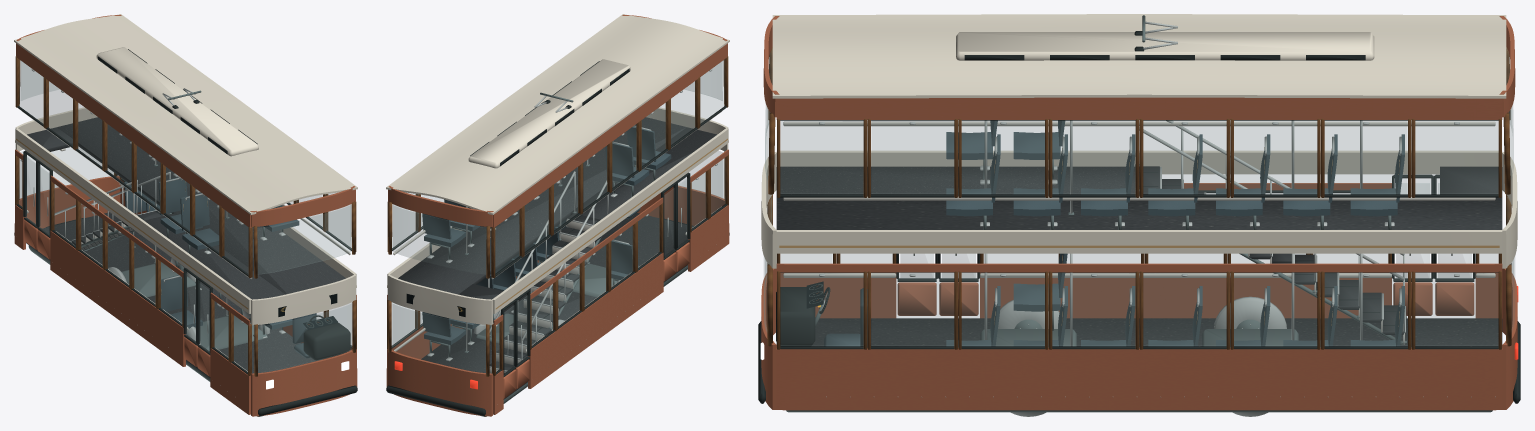
File: vesper-t9-lod0.glb
3 views of the same model, side by side, from view 1: azimuth 30°, elevation 25°; view 2: azimuth 150°, elevation 25°; view 3: azimuth 270°, elevation 25° (orthographic). The views are drawn at different scales.
Visible parts, largest first — view 1: LOD0-tram-detail-0-pearl-batch, LOD0-tram-detail-0-glass-batch, LOD0-tram-detail-0-paint-batch, LOD0-tram-detail-0-floor-batch, LOD0-tram-detail-0-wood-batch, LOD0-tram-detail-0-cloth-batch, LOD0-tram-detail-0-dark-batch, LOD0-tram-detail-0-steel-batch, LOD0-tram-detail-0-metal-batch, LOD0-tram-detail-0-interior-batch, LOD0-tram-door-0-port-leaf-1-glass-batch, LOD0-tram-door-1-port-leaf-1-glass-batch (+8 smaller); view 2: LOD0-tram-detail-0-pearl-batch, LOD0-tram-detail-0-glass-batch, LOD0-tram-detail-0-paint-batch, LOD0-tram-detail-0-floor-batch, LOD0-tram-detail-0-cloth-batch, LOD0-tram-detail-0-wood-batch, LOD0-tram-detail-0-dark-batch, LOD0-tram-detail-0-metal-batch, LOD0-tram-detail-0-steel-batch, LOD0-tram-detail-0-interior-batch, LOD0-tram-door-1-port-leaf--1-glass-batch, LOD0-tram-door-0-port-leaf--1-glass-batch (+7 smaller); view 3: LOD0-tram-detail-0-glass-batch, LOD0-tram-detail-0-pearl-batch, LOD0-tram-detail-0-paint-batch, LOD0-tram-detail-0-floor-batch, LOD0-tram-detail-0-cloth-batch, LOD0-tram-detail-0-wood-batch, LOD0-tram-detail-0-dark-batch, LOD0-tram-detail-0-interior-batch, LOD0-tram-detail-0-metal-batch, LOD0-tram-detail-0-steel-batch, LOD0-tram-detail-0-livery-batch, LOD0-tram-door-0-port-leaf--1-paint-batch (+5 smaller).
Boxes of the visible parts, x1,y1,x2,y2 form: LOD0-tram-detail-0-pearl-batch: (14, 14, 357, 325); LOD0-tram-detail-0-glass-batch: (18, 60, 351, 372); LOD0-tram-detail-0-paint-batch: (14, 14, 357, 416); LOD0-tram-detail-0-floor-batch: (26, 117, 345, 377); LOD0-tram-detail-0-wood-batch: (15, 56, 356, 376); LOD0-tram-detail-0-cloth-batch: (124, 177, 316, 358); LOD0-tram-detail-0-dark-batch: (14, 49, 357, 415); LOD0-tram-detail-0-steel-batch: (28, 90, 283, 416); LOD0-tram-detail-0-metal-batch: (20, 69, 316, 391); LOD0-tram-detail-0-interior-batch: (22, 111, 350, 371); LOD0-tram-door-0-port-leaf-1-glass-batch: (39, 167, 49, 234); LOD0-tram-door-1-port-leaf-1-glass-batch: (199, 284, 209, 351); LOD0-tram-detail-0-pearl-batch: (386, 14, 729, 325); LOD0-tram-detail-0-glass-batch: (392, 60, 725, 372); LOD0-tram-detail-0-paint-batch: (386, 14, 729, 416); LOD0-tram-detail-0-floor-batch: (398, 117, 716, 399); LOD0-tram-detail-0-cloth-batch: (422, 126, 671, 344); LOD0-tram-detail-0-wood-batch: (387, 56, 728, 376); LOD0-tram-detail-0-dark-batch: (386, 61, 729, 415); LOD0-tram-detail-0-metal-batch: (427, 69, 717, 371); LOD0-tram-detail-0-steel-batch: (429, 92, 687, 416); LOD0-tram-detail-0-interior-batch: (393, 111, 721, 373); LOD0-tram-door-1-port-leaf--1-glass-batch: (664, 189, 674, 256); LOD0-tram-door-0-port-leaf--1-glass-batch: (504, 306, 514, 373); LOD0-tram-detail-0-glass-batch: (763, 48, 1514, 345); LOD0-tram-detail-0-pearl-batch: (761, 14, 1517, 268); LOD0-tram-detail-0-paint-batch: (761, 16, 1517, 410); LOD0-tram-detail-0-floor-batch: (776, 166, 1502, 347); LOD0-tram-detail-0-cloth-batch: (824, 120, 1404, 347); LOD0-tram-detail-0-wood-batch: (767, 47, 1511, 349); LOD0-tram-detail-0-dark-batch: (758, 31, 1520, 403); LOD0-tram-detail-0-interior-batch: (783, 121, 1495, 344); LOD0-tram-detail-0-metal-batch: (819, 21, 1495, 397); LOD0-tram-detail-0-steel-batch: (786, 15, 1492, 412); LOD0-tram-detail-0-livery-batch: (779, 147, 1499, 326); LOD0-tram-door-0-port-leaf--1-paint-batch: (1435, 282, 1474, 315).
Bounding box in the file's own units: 2.28 × 4.69 × 8.93.
15 materials, 5 textured.
